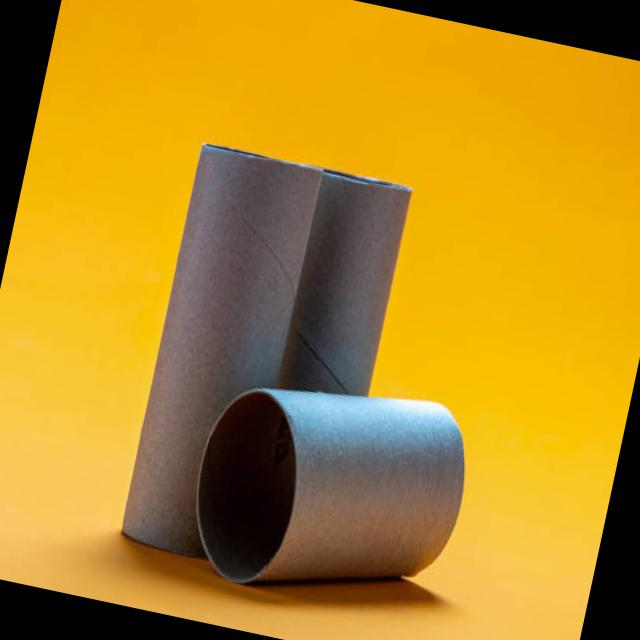electronic: (115, 139, 414, 586), (177, 353, 480, 624), (276, 167, 412, 404)
